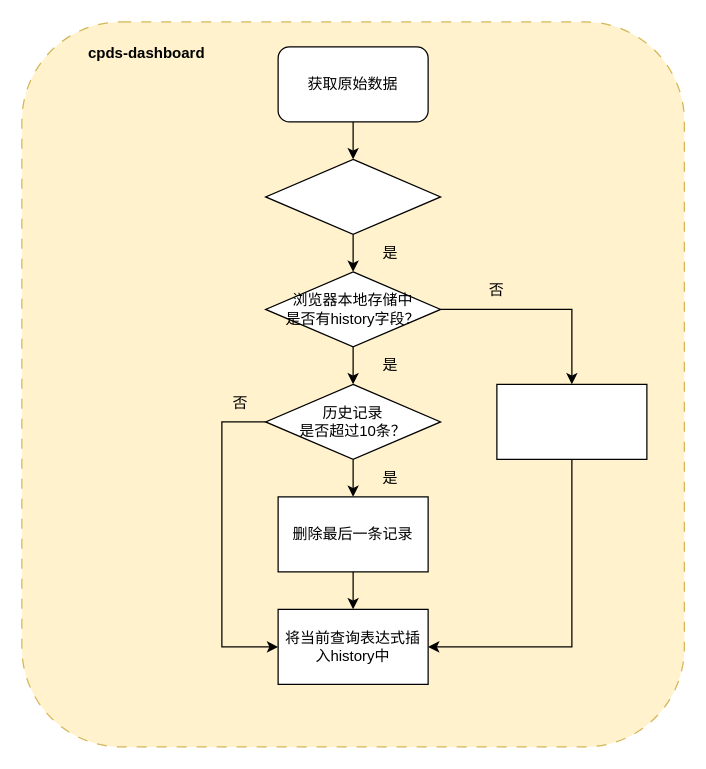
The diagram is 706 pixels wide and 769 high, and some of its shapes have lost their labels. Each missing label, with the centre of its shape:
原始数据获取成功？: the point at 352,196
在浏览器本地存储中创建history字段: the point at 571,421
